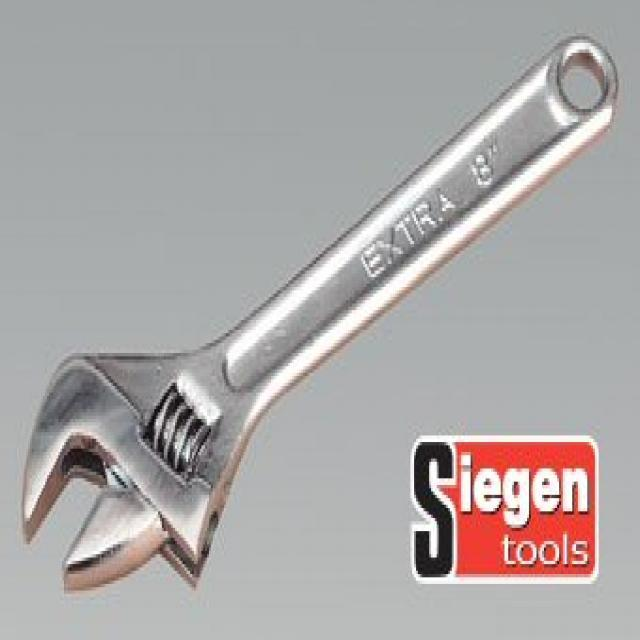wrench: (12, 28, 624, 590)
